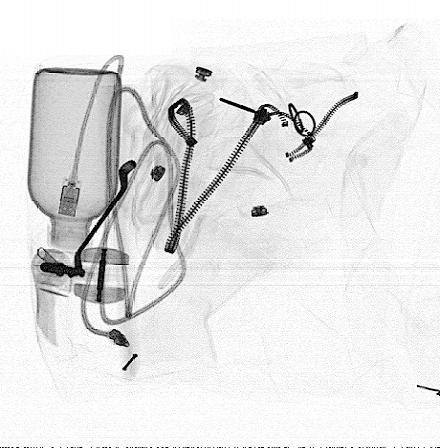Wrench: (41, 159, 137, 279)
